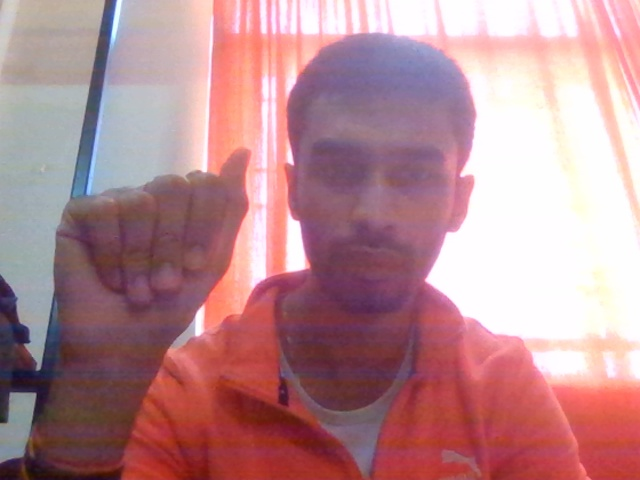A: (42, 123, 264, 382)
